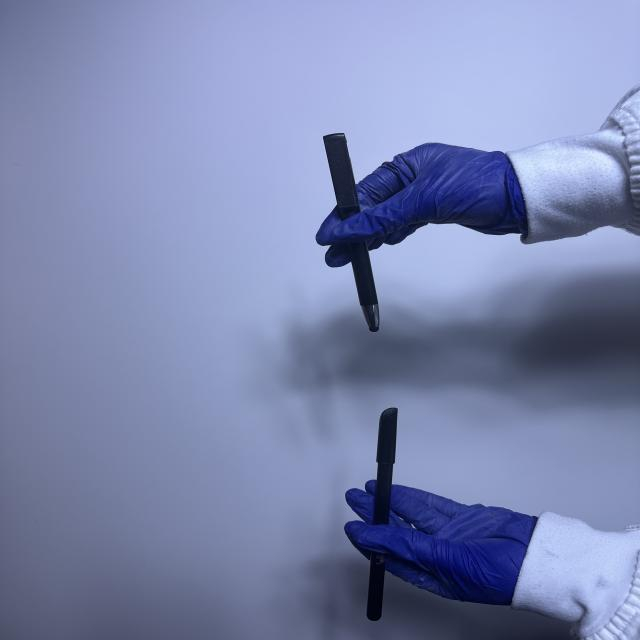gloves_contaminated: (316, 143, 527, 267), (345, 480, 537, 605)
